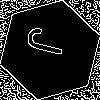J: (25, 25, 76, 61)
